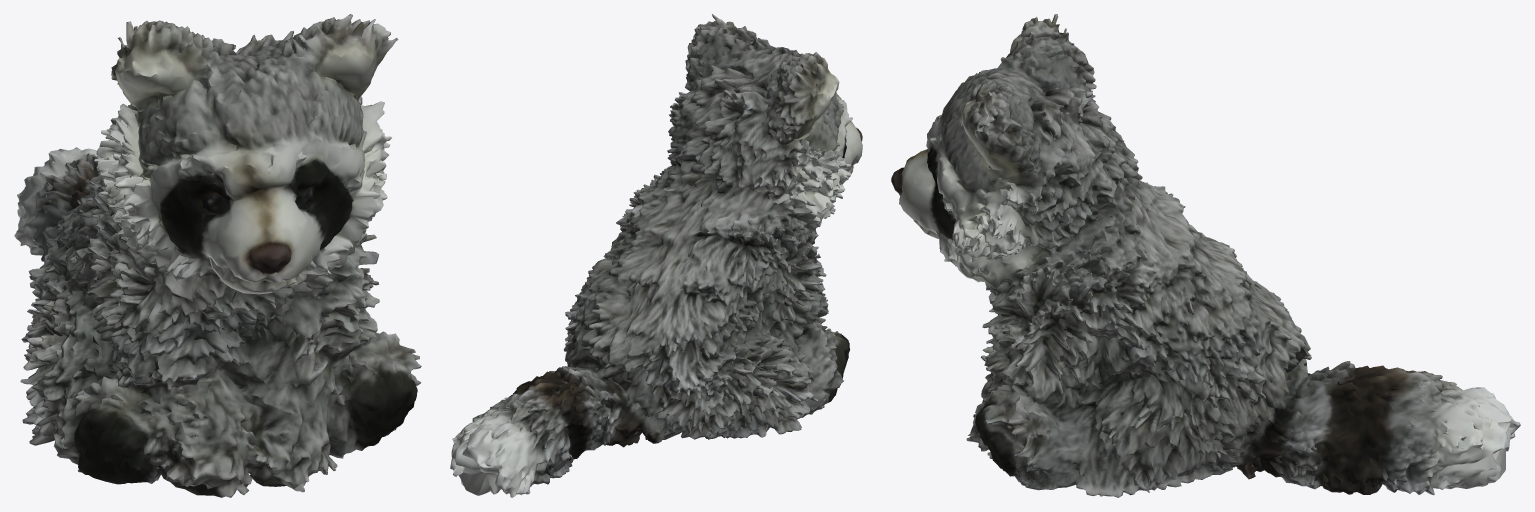
Rendered from Racoon.glb.
3 views of the same model, side by side, from view 1: azimuth 30°, elevation 25°; view 2: azimuth 150°, elevation 25°; view 3: azimuth 270°, elevation 25° (orthographic). The views are drawn at different scales.
Parts seen in each view (by area): view 1: Racoon; view 2: Racoon; view 3: Racoon.
Boxes of the visible parts, bbox=[...] form: Racoon: bbox=[14, 14, 421, 497]; Racoon: bbox=[450, 14, 862, 497]; Racoon: bbox=[891, 14, 1520, 497].
Size of the model in its own units: 0.1525 by 0.2111 by 0.3151.
Materials: 1 (1 with a texture image).
